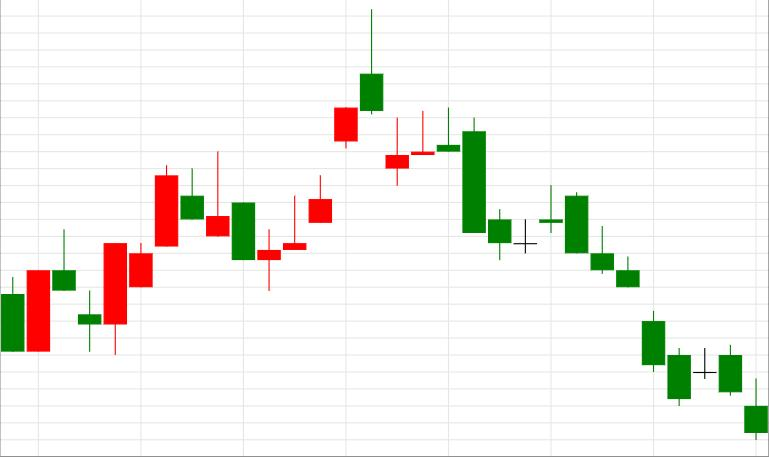shooting_star_fall: (258, 10, 383, 291)
